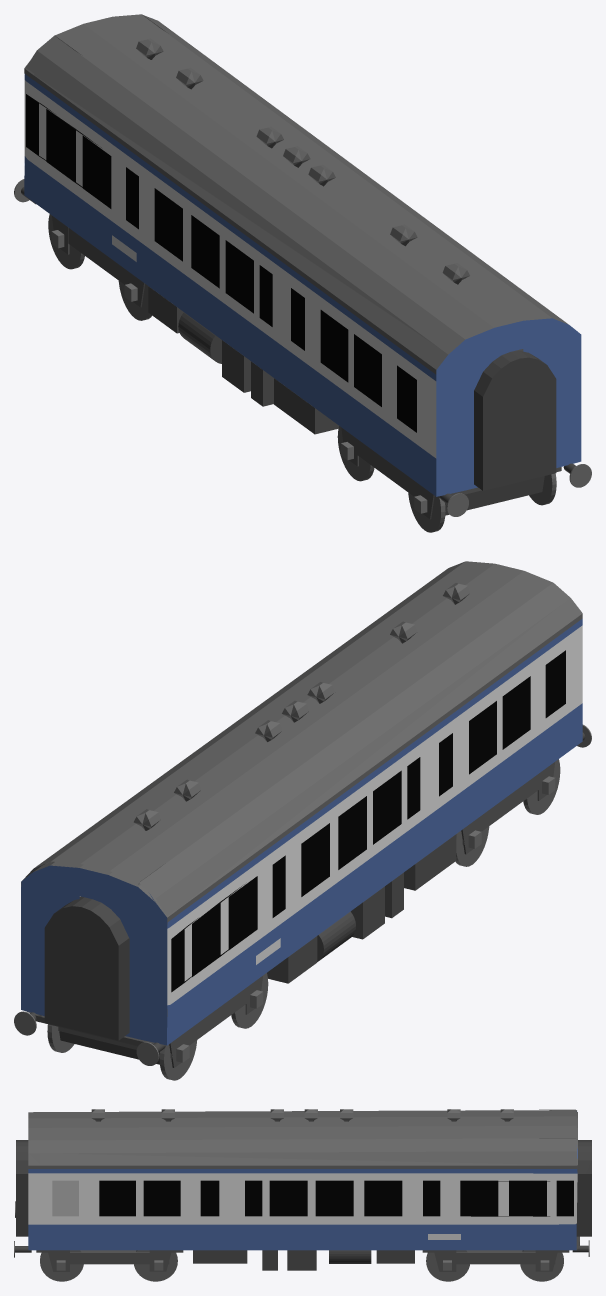
File: BR-101-tsl-bg.dae
The picture shows the model from 3 angles, top to bottom: view 1: azimuth 30°, elevation 25°; view 2: azimuth 150°, elevation 25°; view 3: azimuth 270°, elevation 25°; orthographic projection. The views are drawn at different scales.
Parts seen in each view (by area): view 1: BR-cl101-front_rear, Cube, Cube_060_001, Cube_001, Cube_043_001, Cube_043, Cylinder_002, Cube_003, Cube_004, Cube_002, Cylinder_011_001; view 2: BR-cl101-front_rear, Cube_005, Cube_043, Cube_001, Cube_043_001, Cube_004, Cube_003, Cube_061, Cylinder_002, Cylinder_010, Cube_002; view 3: BR-cl101-front_rear, Cube_005, Cube_043, Cube_043_001, Cube, Cube_001, Cube_003, Cylinder_009_001, Cylinder_008, Cylinder_009, Cylinder_008_001, Cylinder_003 (+4 smaller).
Boxes of the visible parts, bbox=[...] form: BR-cl101-front_rear: bbox=[24, 14, 581, 496]; Cube: bbox=[474, 351, 556, 490]; Cube_060_001: bbox=[422, 467, 561, 519]; Cube_001: bbox=[274, 378, 338, 434]; Cube_043_001: bbox=[357, 439, 431, 508]; Cube_043: bbox=[68, 228, 141, 296]; Cylinder_002: bbox=[178, 312, 221, 363]; Cube_003: bbox=[222, 340, 250, 392]; Cube_004: bbox=[148, 286, 183, 333]; Cube_002: bbox=[251, 361, 273, 406]; Cylinder_011_001: bbox=[408, 493, 445, 532]; BR-cl101-front_rear: bbox=[21, 561, 582, 1045]; Cube_005: bbox=[44, 896, 129, 1040]; Cube_043: bbox=[58, 977, 260, 1058]; Cube_001: bbox=[404, 834, 456, 890]; Cube_043_001: bbox=[462, 764, 552, 844]; Cube_004: bbox=[167, 923, 317, 983]; Cube_003: bbox=[351, 886, 384, 939]; Cube_061: bbox=[59, 1031, 186, 1067]; Cylinder_002: bbox=[317, 911, 355, 961]; Cylinder_010: bbox=[159, 1040, 197, 1080]; Cube_002: bbox=[385, 872, 403, 918]; BR-cl101-front_rear: bbox=[28, 1109, 579, 1250]; Cube_005: bbox=[576, 1140, 591, 1236]; Cube_043: bbox=[456, 1250, 555, 1264]; Cube_043_001: bbox=[70, 1250, 169, 1264]; Cube: bbox=[16, 1140, 28, 1236]; Cube_001: bbox=[193, 1250, 247, 1263]; Cube_003: bbox=[287, 1250, 316, 1270]; Cylinder_009_001: bbox=[134, 1250, 177, 1281]; Cylinder_008: bbox=[426, 1250, 469, 1281]; Cylinder_009: bbox=[520, 1250, 563, 1281]; Cylinder_008_001: bbox=[40, 1250, 83, 1281]; Cylinder_003: bbox=[329, 1250, 371, 1263].
Size of the model in its own units: 2.04 by 10.35 by 3.05.
